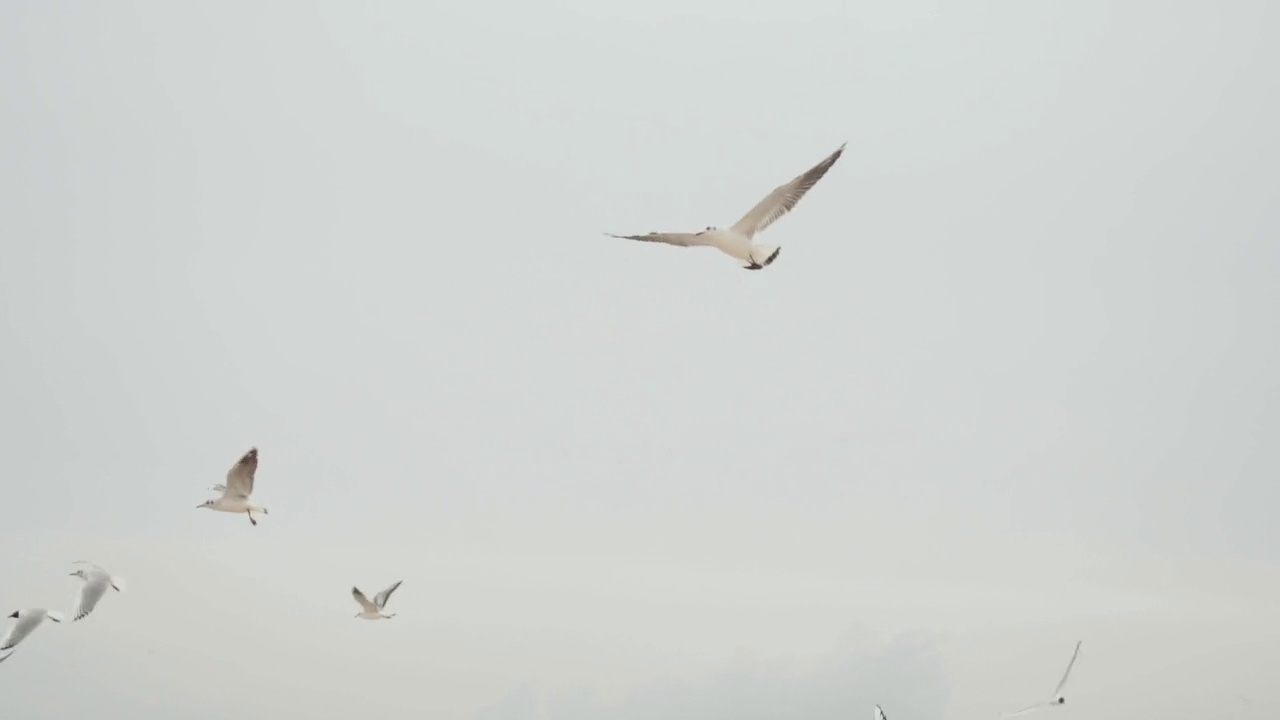bird: (600, 141, 845, 270), (996, 639, 1079, 715), (196, 448, 271, 525), (71, 552, 119, 619), (1, 608, 61, 660), (350, 577, 402, 623)
